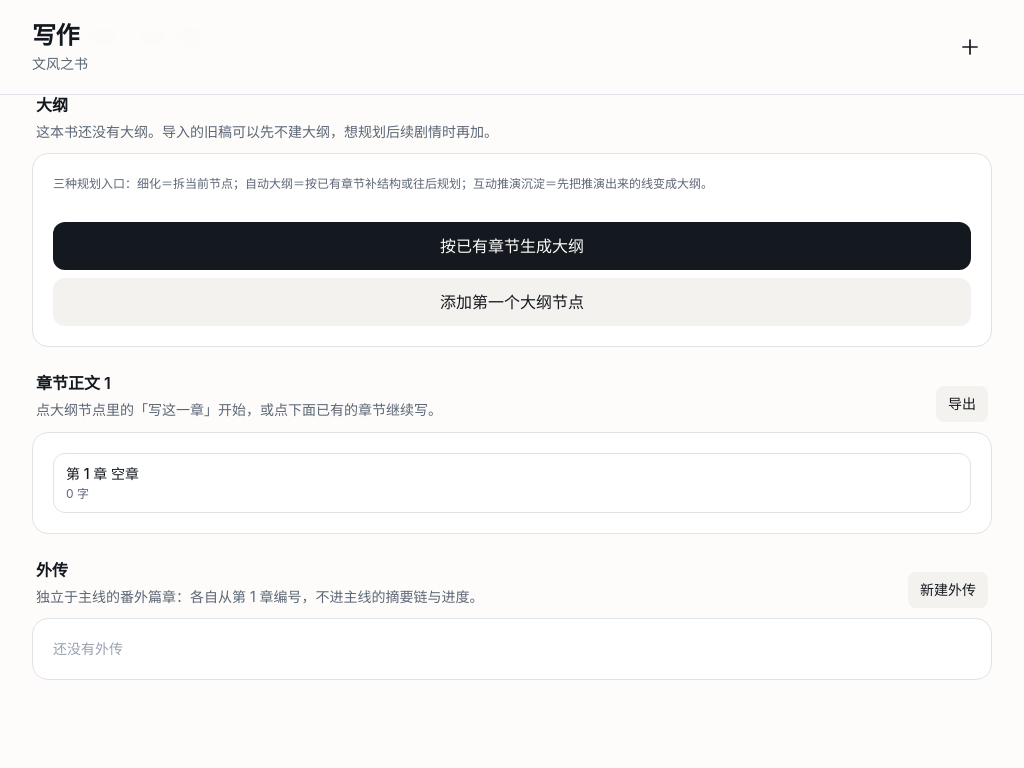
Test: M4-S2 · 编辑器 UI › 无正文：入口按钮禁用
(page scrolled)
Click the button with aria-label "继续写第 1 章".
click(123, 473)  # box [53,452,971,512]
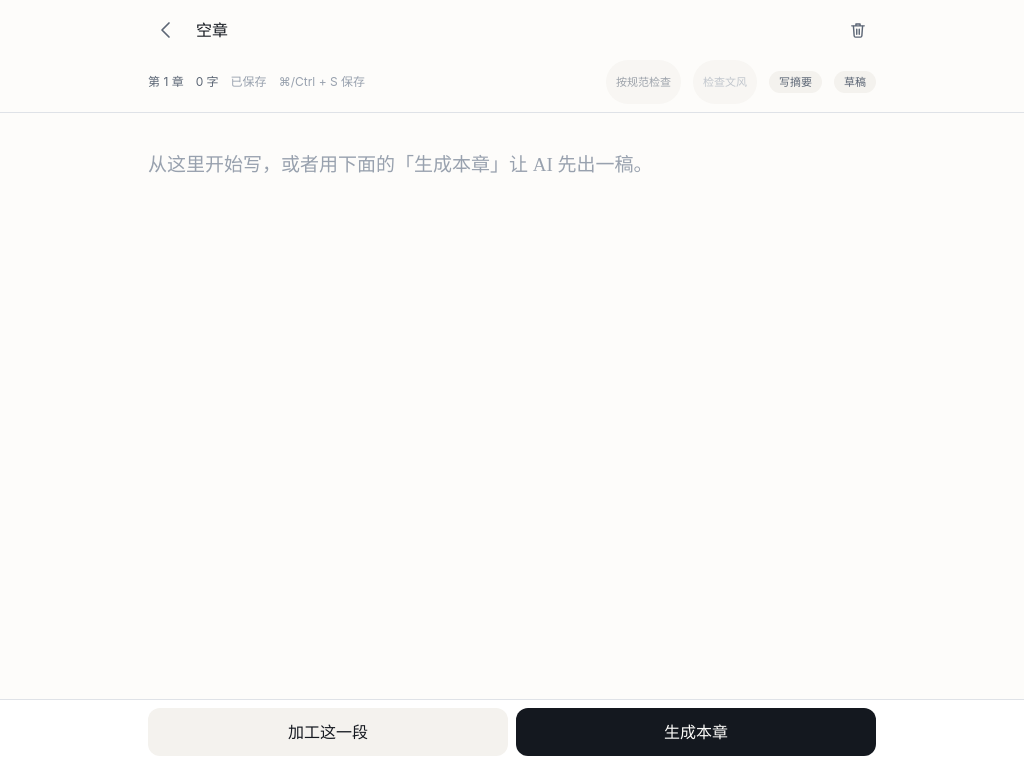
Result: the text box named "章节正文" is shown at [144,113,880,699]
Result: the button "检查文风" is disabled at [693,60,757,104]
